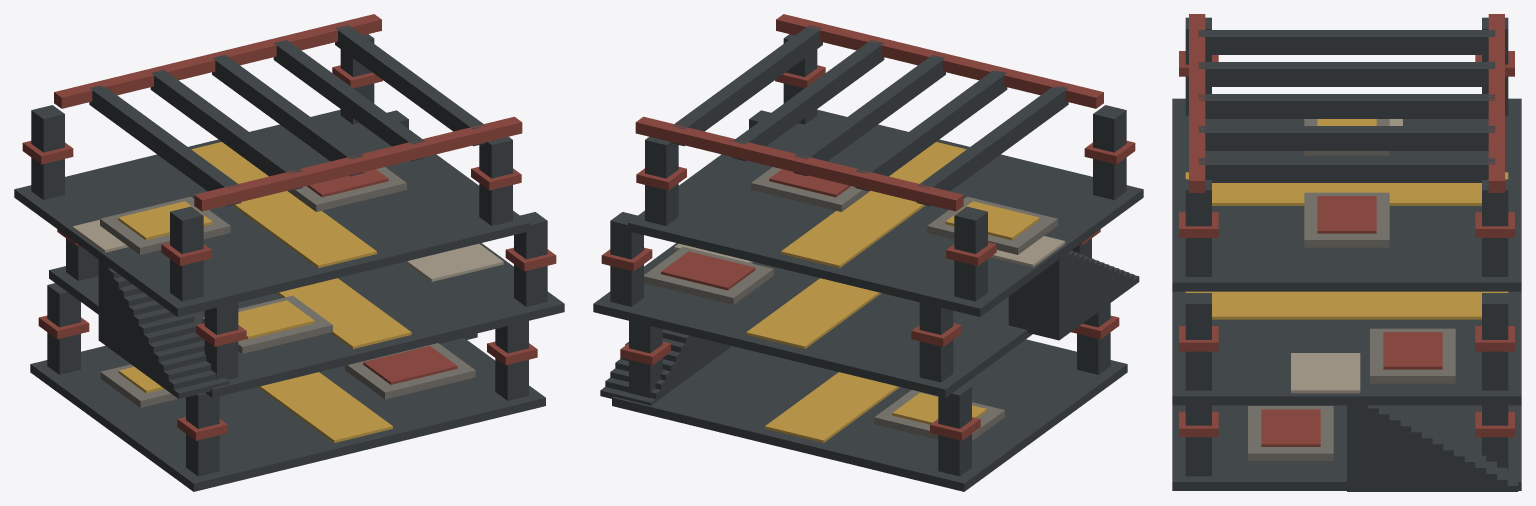
Rendered from KLC_PlotVariant_04_IndustrialDepot.fbx.
3 renders of one model, left to right at view 1: azimuth 30°, elevation 25°; view 2: azimuth 150°, elevation 25°; view 3: azimuth 270°, elevation 25°, orthographic. The views are drawn at different scales.
Parts seen in each view (by area): view 1: V04_Floor_3, V04_Floor_1, V04_Floor_2, V04_WalkStripe_2, V04_RoofBack, V04_RoofFront, V04_WalkStripe_0, V04_WalkStripe_1, V04_RoofTruss_3, V04_RoofTruss_2, V04_RoofTruss_1, V04_RoofTruss_4 (+39 smaller); view 2: V04_Floor_3, V04_Floor_1, V04_Floor_2, V04_WalkStripe_2, V04_RoofFront, V04_RoofBack, V04_WalkStripe_1, V04_WalkStripe_0, V04_RoofTruss_3, V04_RoofTruss_2, V04_RoofTruss_1, V04_RoofTruss_0 (+27 smaller); view 3: V04_Floor_3, V04_Floor_2, V04_Floor_1, V04_WalkStripe_1, V04_RoofTruss_0, V04_RoofTruss_1, V04_RoofTruss_3, V04_RoofTruss_2, V04_RoofTruss_4, V04_WalkStripe_2, V04_RoofFront, V04_RoofBack (+36 smaller).
Part boxes in pixels (x1,y1,x2,y2): V04_Floor_3: (14, 109, 529, 316); V04_Floor_1: (30, 338, 545, 491); V04_Floor_2: (49, 243, 564, 397); V04_WalkStripe_2: (191, 142, 376, 268); V04_RoofBack: (194, 116, 522, 211); V04_RoofFront: (54, 14, 381, 108); V04_WalkStripe_0: (258, 372, 392, 442); V04_WalkStripe_1: (276, 278, 411, 348); V04_RoofTruss_3: (273, 40, 425, 161); V04_RoofTruss_2: (212, 55, 364, 176); V04_RoofTruss_1: (150, 70, 302, 191); V04_RoofTruss_4: (335, 25, 485, 146); V04_Floor_3: (628, 109, 1143, 316); V04_Floor_1: (612, 339, 1127, 491); V04_Floor_2: (593, 243, 1032, 397); V04_WalkStripe_2: (781, 142, 966, 268); V04_RoofFront: (635, 116, 963, 211); V04_RoofBack: (776, 14, 1103, 108); V04_WalkStripe_1: (746, 278, 881, 348); V04_WalkStripe_0: (765, 372, 899, 442); V04_RoofTruss_3: (732, 40, 884, 161); V04_RoofTruss_2: (793, 55, 945, 176); V04_RoofTruss_1: (855, 70, 1007, 191); V04_RoofTruss_0: (916, 85, 1068, 206); V04_Floor_3: (1172, 98, 1521, 291); V04_Floor_2: (1172, 291, 1521, 405); V04_Floor_1: (1172, 405, 1521, 490); V04_WalkStripe_1: (1185, 291, 1508, 319); V04_RoofTruss_0: (1198, 30, 1495, 54); V04_RoofTruss_1: (1198, 62, 1495, 86); V04_RoofTruss_3: (1198, 126, 1495, 150); V04_RoofTruss_2: (1198, 94, 1495, 118); V04_RoofTruss_4: (1198, 158, 1495, 182); V04_WalkStripe_2: (1185, 172, 1508, 205); V04_RoofFront: (1488, 14, 1504, 192); V04_RoofBack: (1189, 14, 1205, 192).
Size of the model in its own units: 1812 by 1262 by 1325.
5 materials, 5 textured.
